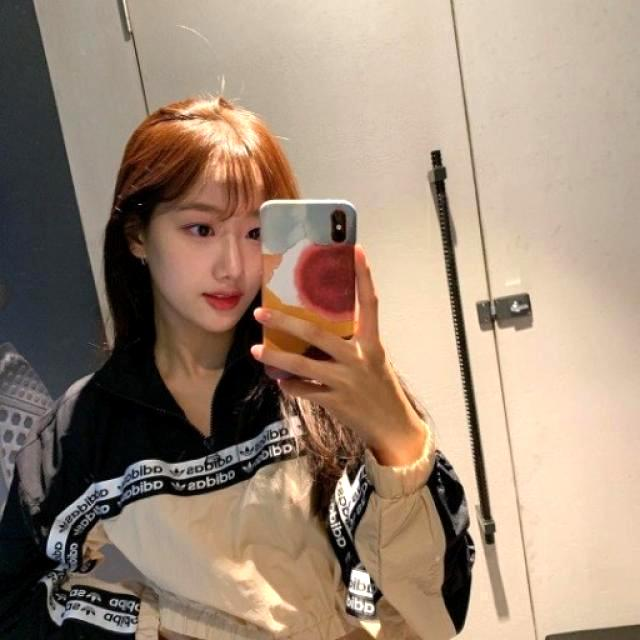lens_back: (330, 210, 347, 224), (331, 228, 346, 242)
phone: (259, 198, 357, 378)
